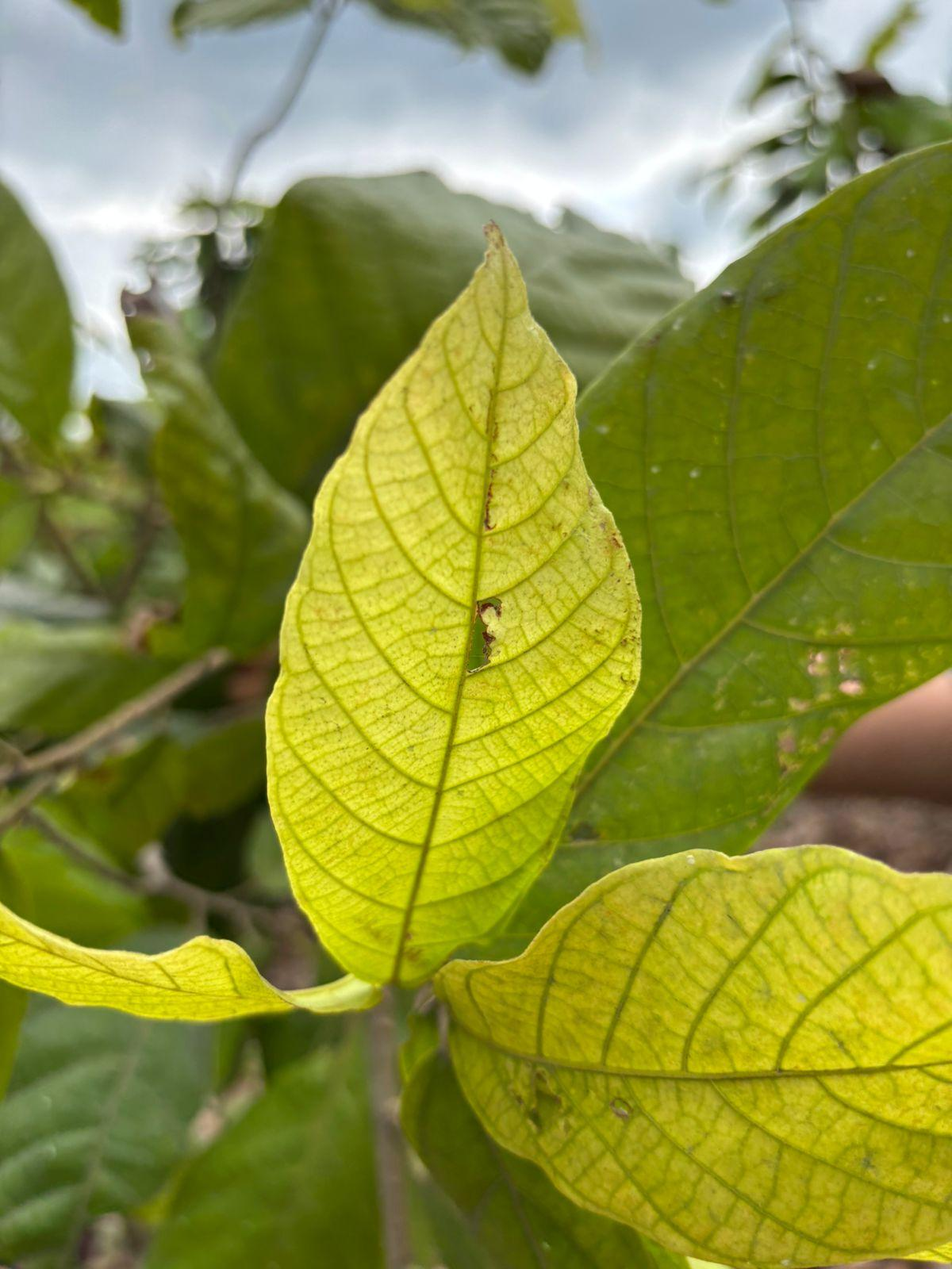Nitrogeno: (266, 229, 639, 986), (434, 846, 951, 1268), (0, 904, 378, 1022)
